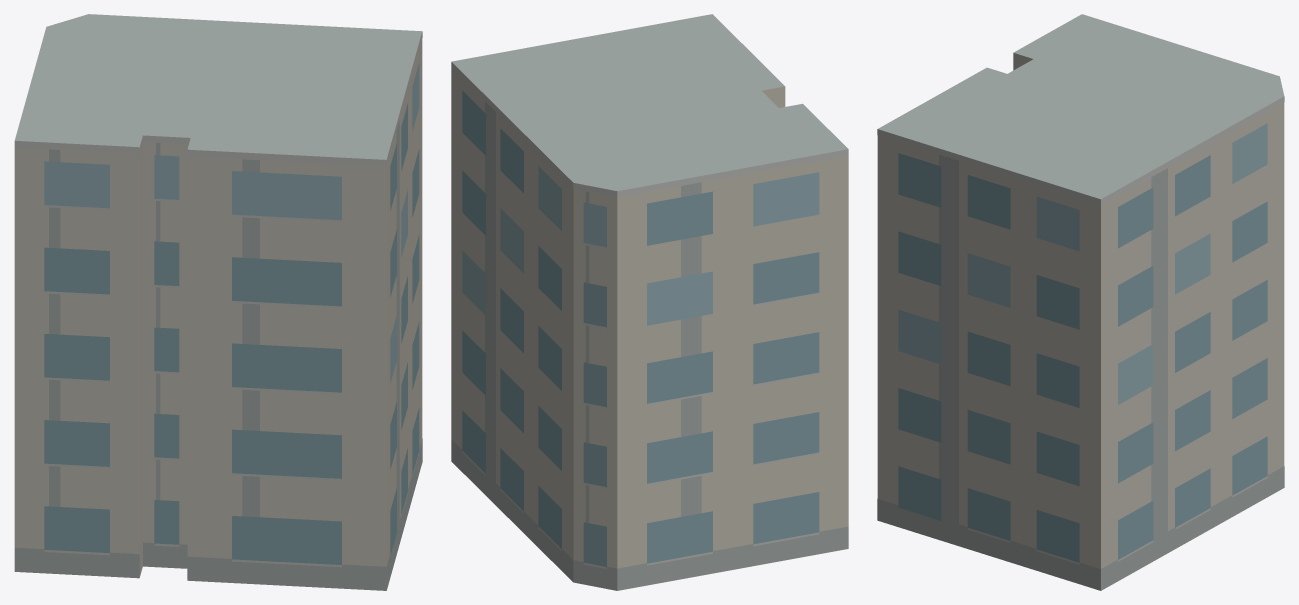
The model's file is survey-upis-32913051.glb.
3 views of the same model, side by side, from view 1: azimuth 30°, elevation 25°; view 2: azimuth 150°, elevation 25°; view 3: azimuth 270°, elevation 25° (orthographic). The views are drawn at different scales.
Parts seen in each view (by area): view 1: survey-upis-32913051.tmp; view 2: survey-upis-32913051.tmp; view 3: survey-upis-32913051.tmp.
Part boxes in pixels (x1,y1,x2,y2): survey-upis-32913051.tmp: [14, 14, 422, 590]; survey-upis-32913051.tmp: [451, 14, 848, 590]; survey-upis-32913051.tmp: [877, 14, 1284, 590].
Size of the model in its own units: 15.54 by 15.3 by 14.42.
